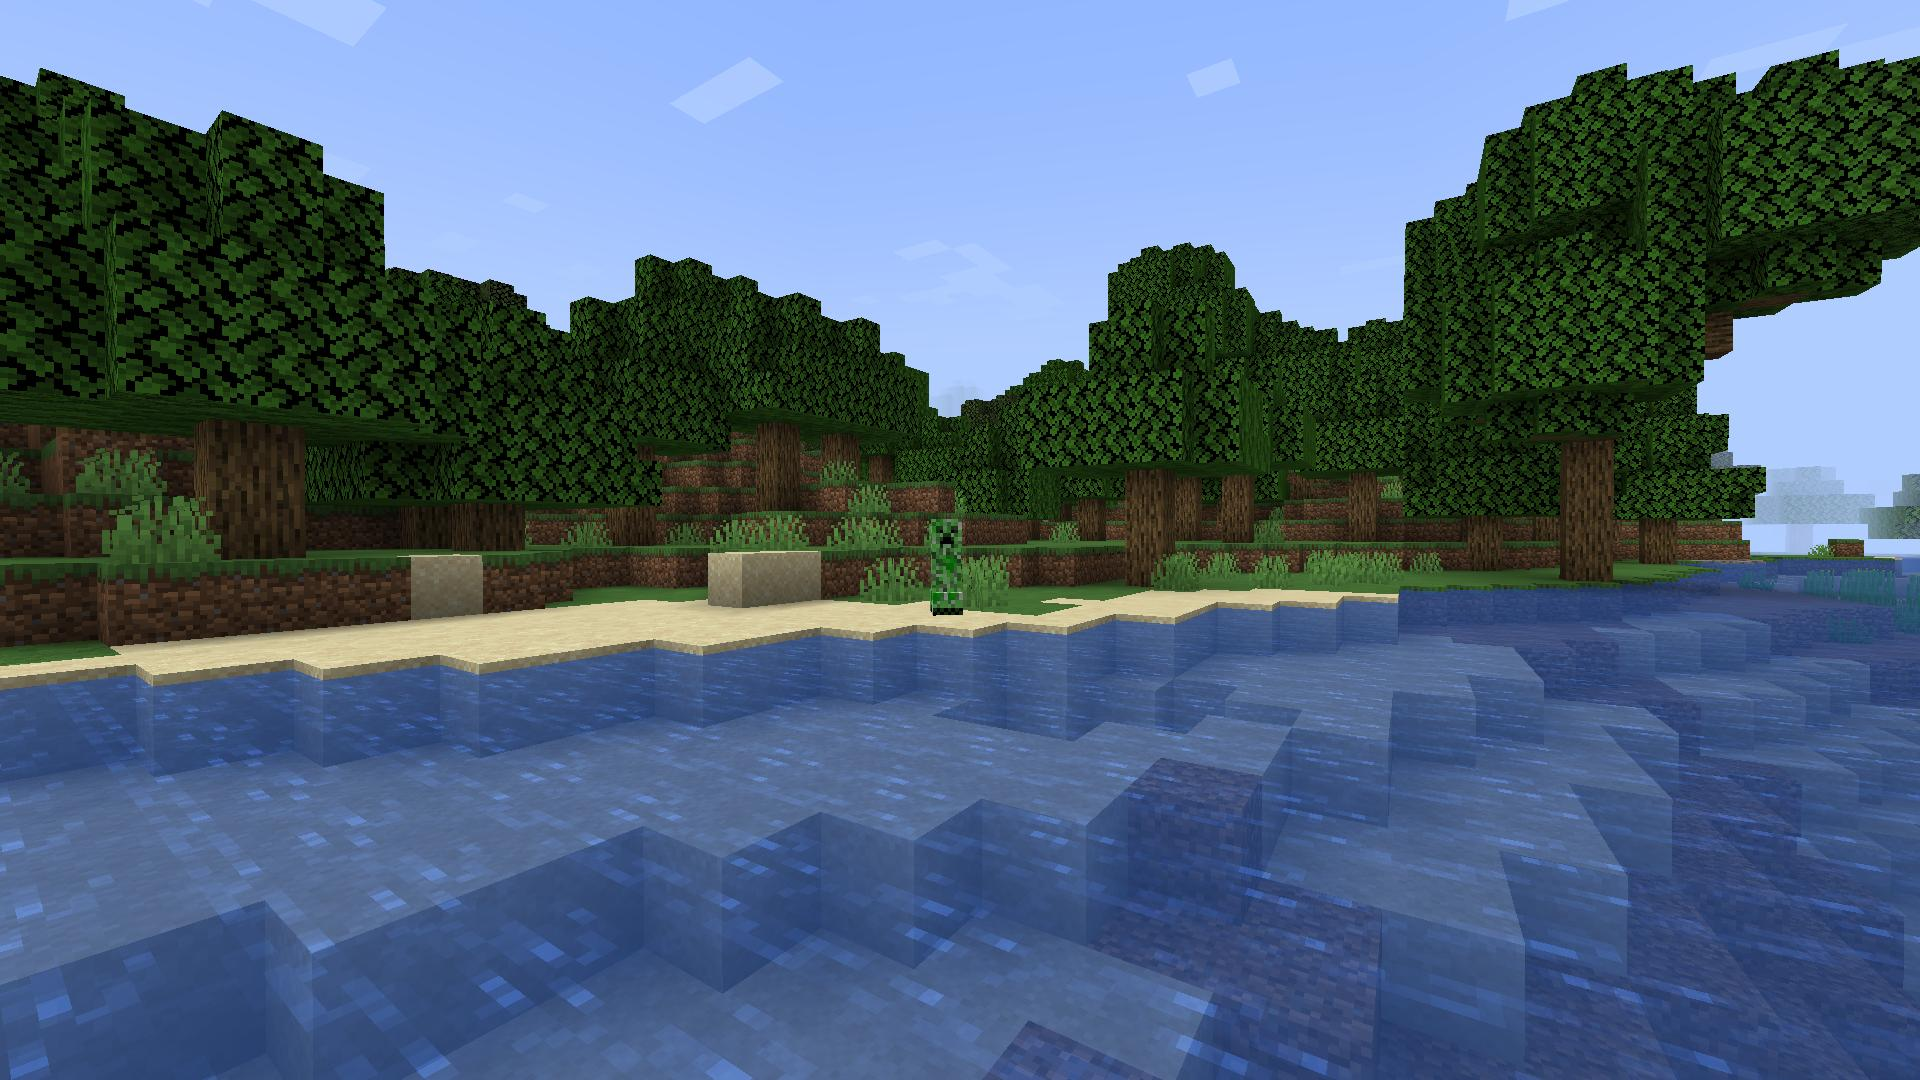creeper: (920, 513, 976, 626)
